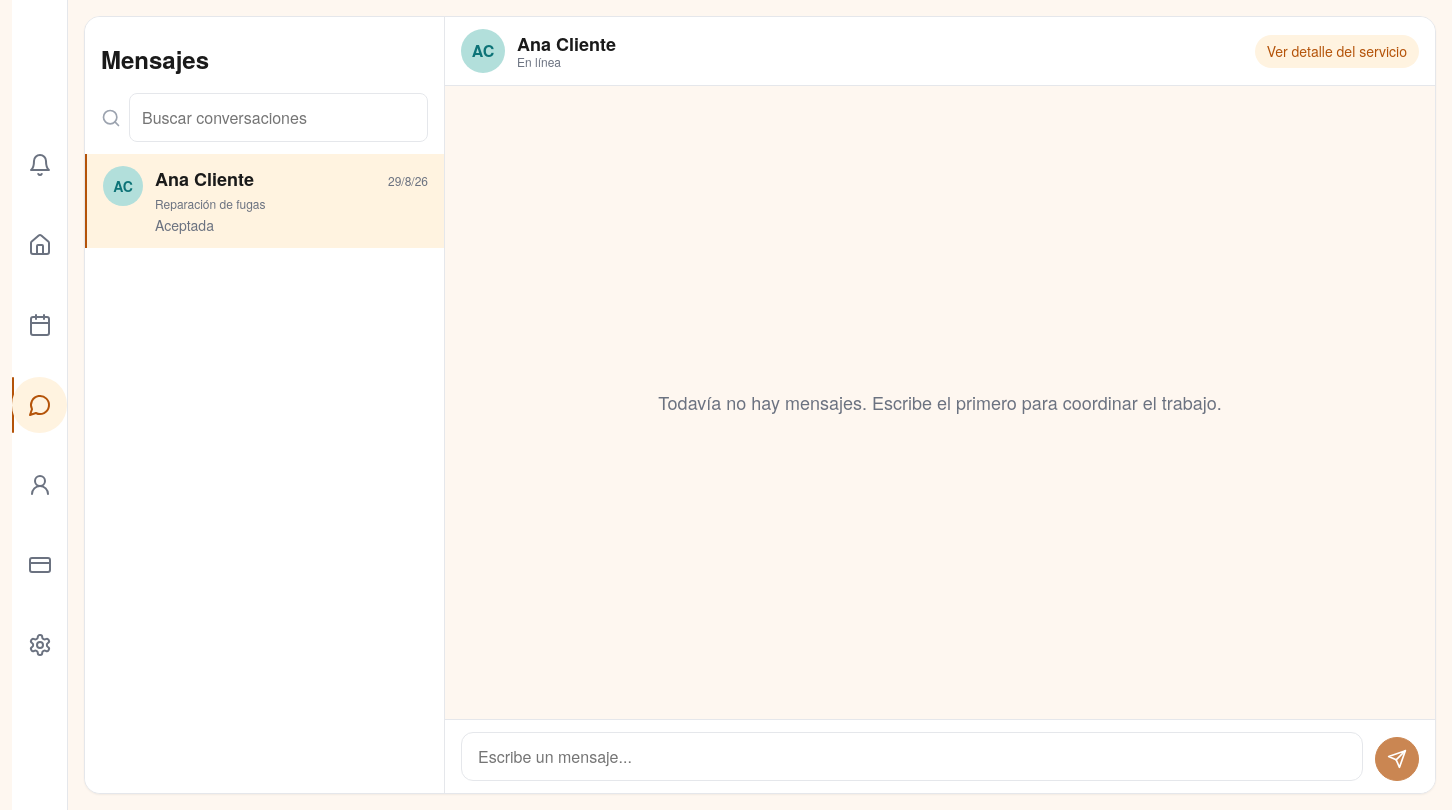
Pantalla de mensajes › conserva lo escrito cuando el envío falla
Type "Este texto no se debe perder." into the text box labelled "mensaje" at (912, 756), box [461, 732, 1363, 781]
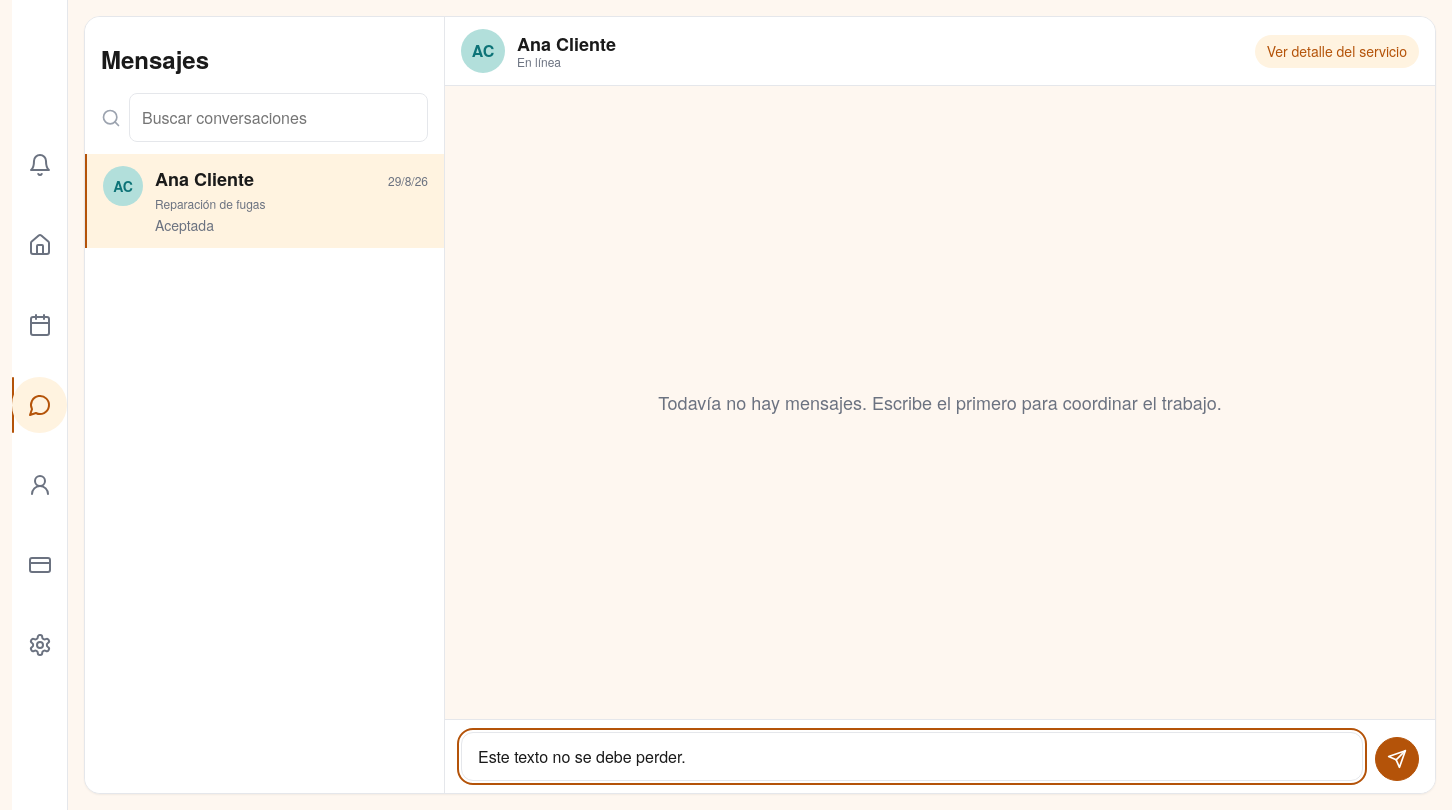
Click the button named "Enviar" at (1397, 759), box [1375, 737, 1419, 781]
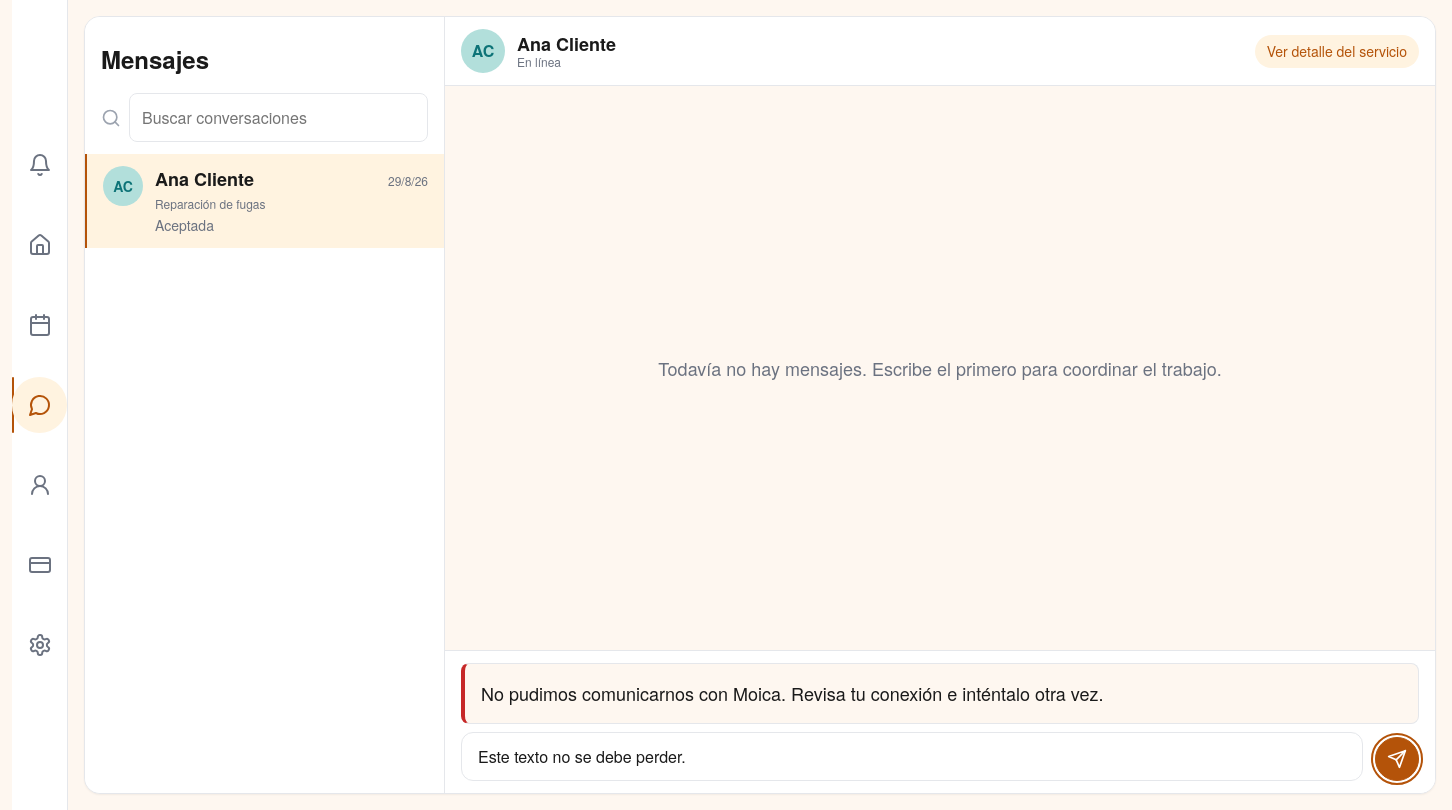
Result: the message "No pudimos comunicarnos con Moica. Revisa tu conexión e inténtalo otra vez." is shown at [461, 663, 1419, 724]
